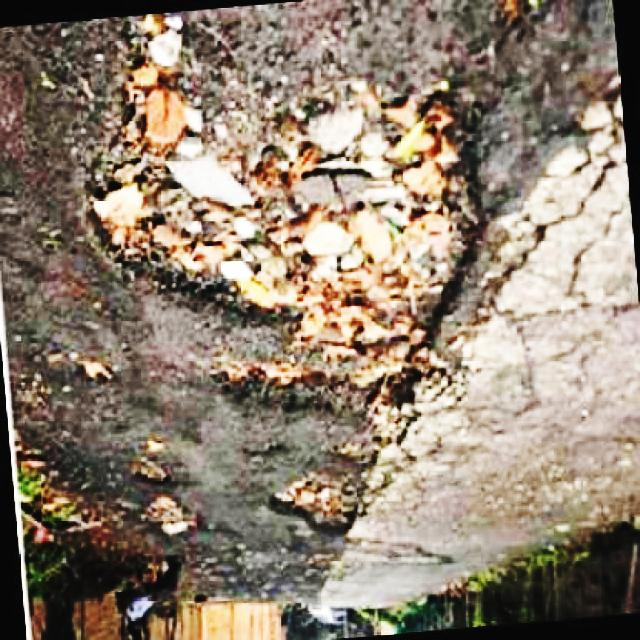pothole: (90, 51, 482, 346), (215, 350, 460, 416), (265, 474, 389, 537)
